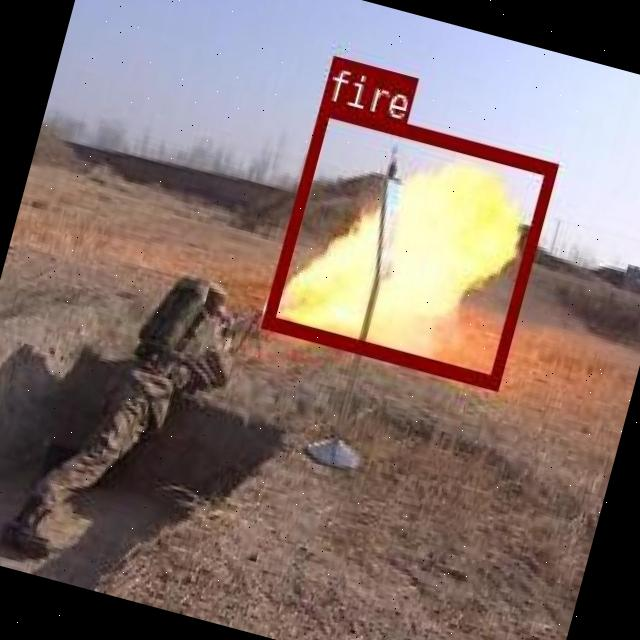fire: (261, 99, 556, 387)
